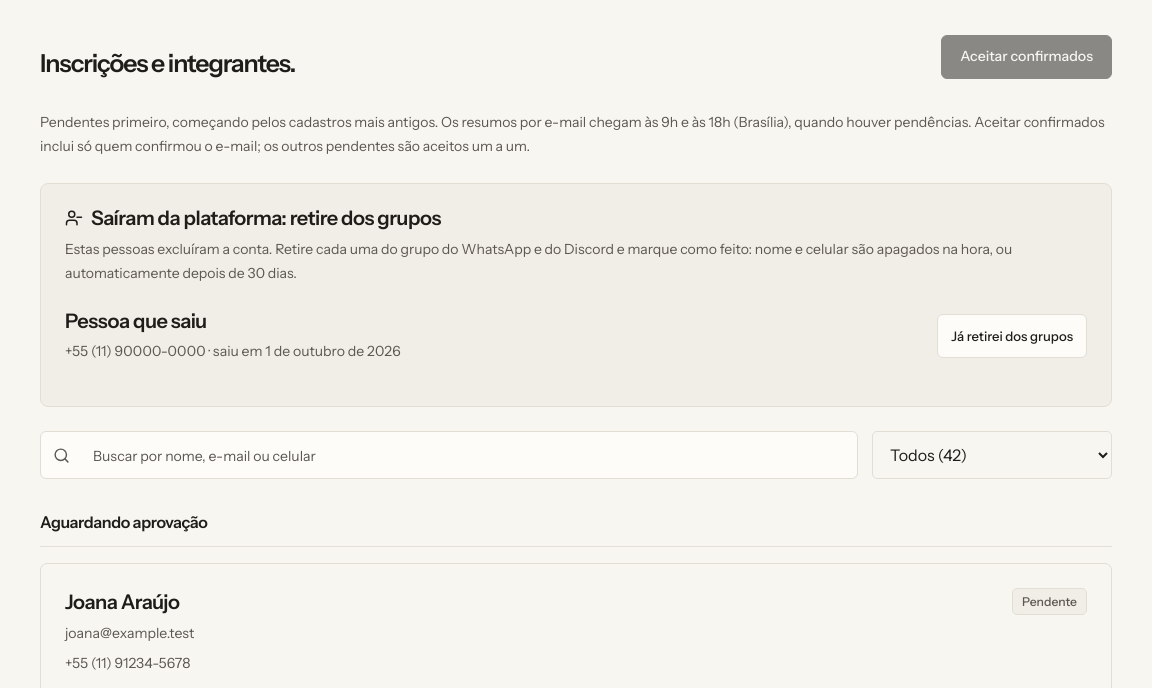
departures are listed for group removal and cleared on confirmation
The width and height of the screenshot is (1152, 688).
(page scrolled)
Check: the heading "Pessoa que saiu" is shown, box [65,309,207,333]
Click the button "Já retirei dos grupos" at (1012, 336), box [937,314,1087,358]
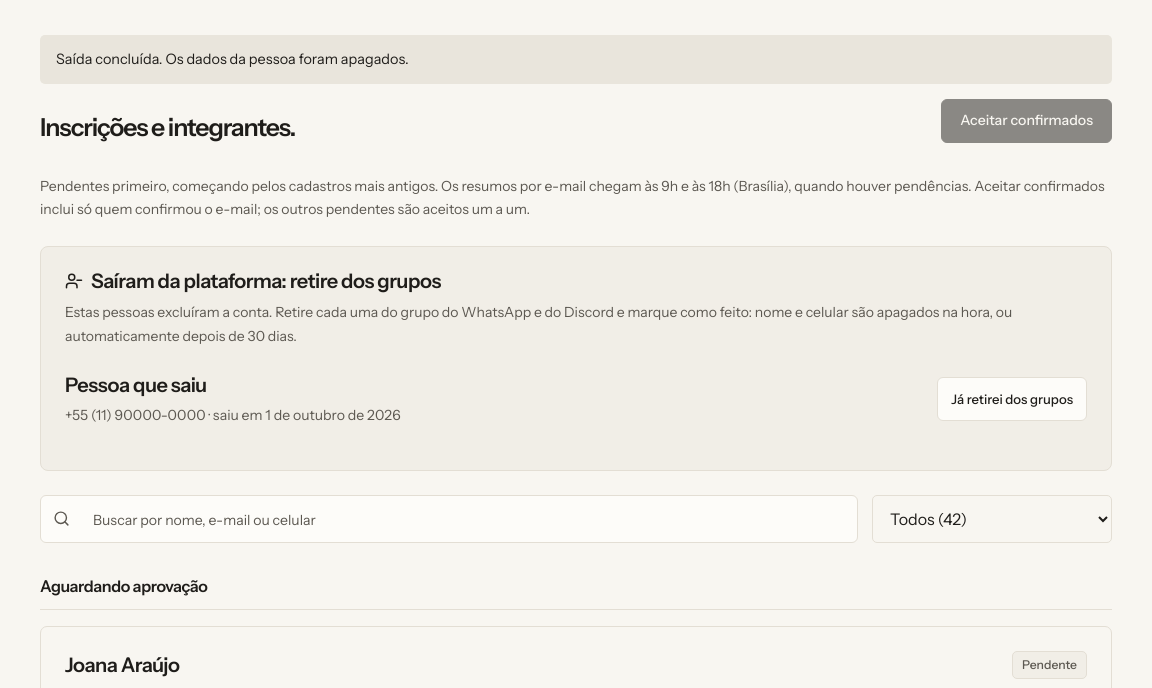
Check: the text "Saída concluída. Os dados da pessoa foram apagados." is shown, box [40,35,1112,84]
